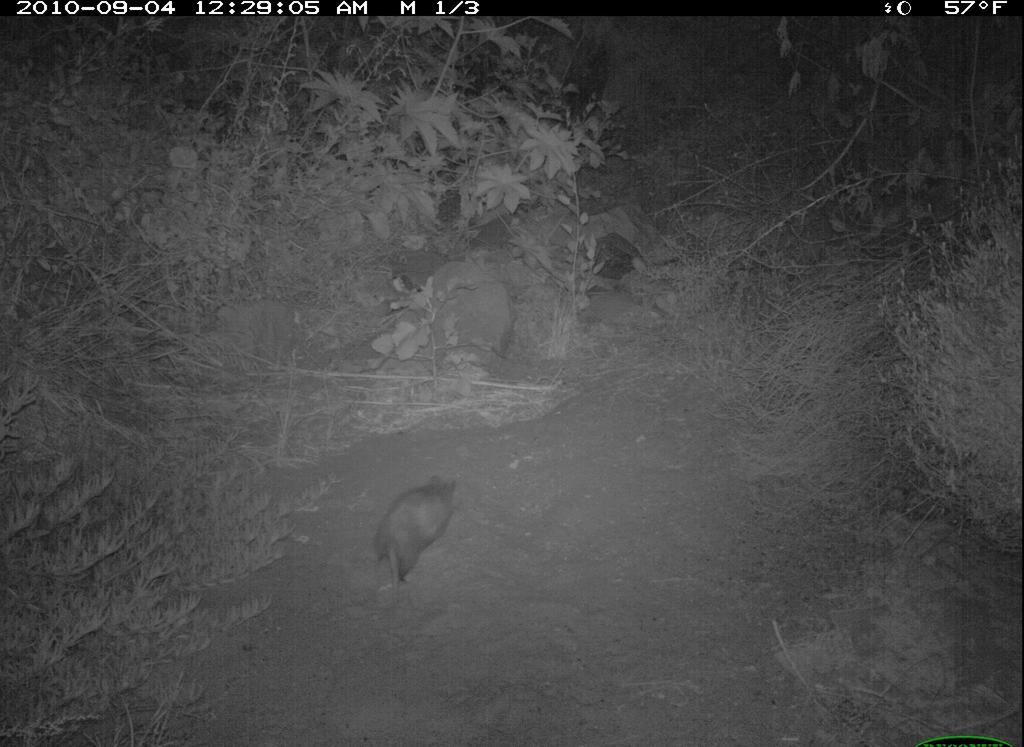opossum: (361, 472, 482, 605)
